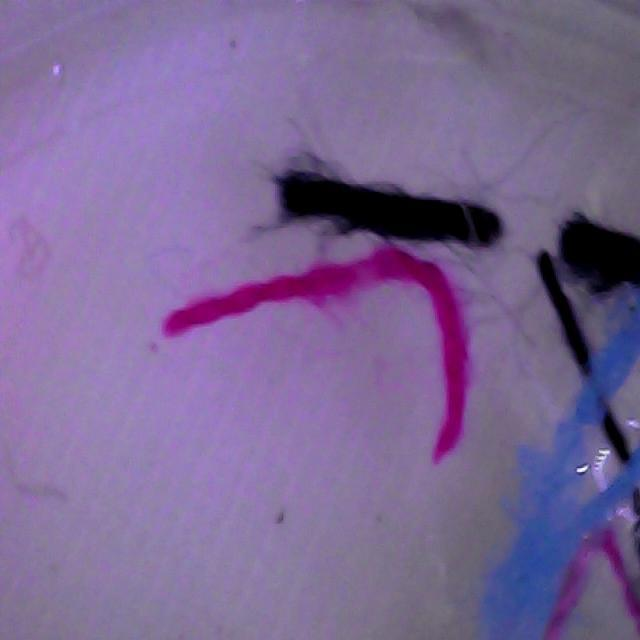fibers: (159, 169, 523, 468), (268, 164, 507, 259)
